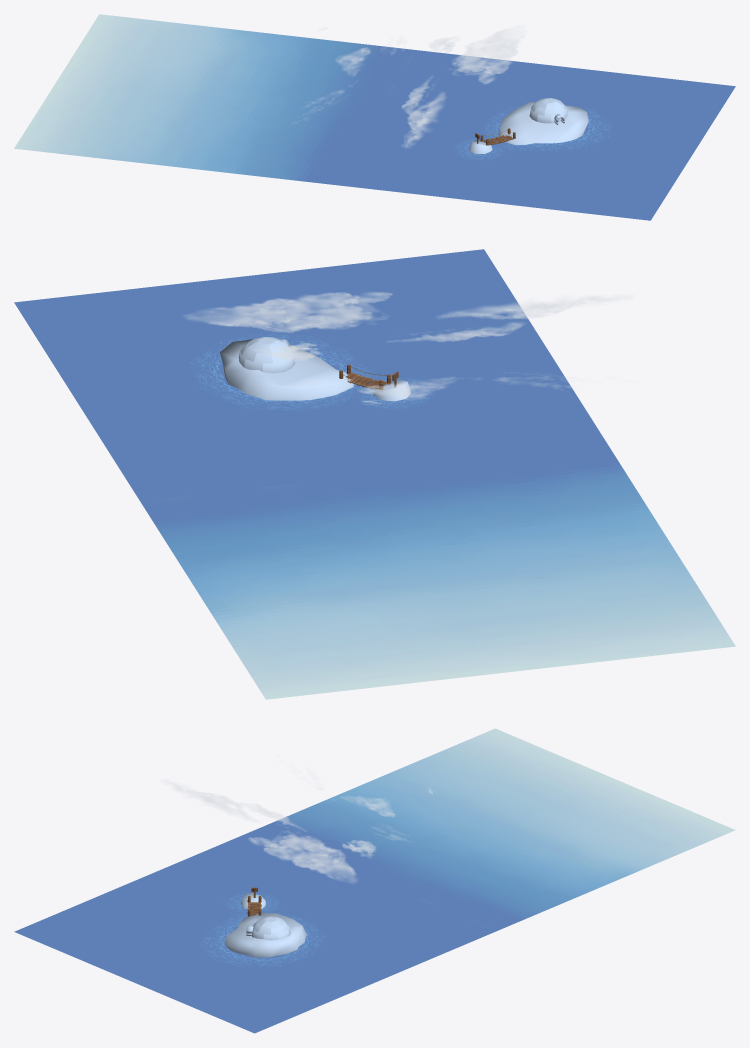
Rendered from Map.gltf.
The picture shows the model from 3 angles, top to bottom: view 1: azimuth 30°, elevation 25°; view 2: azimuth 150°, elevation 25°; view 3: azimuth 270°, elevation 25°; orthographic projection. The views are drawn at different scales.
Visible parts, largest first — view 1: Sky, Ocean, Mainland, CumulonimbusE, StratusE, Waves, CumulonimbusW, StratusW; view 2: Sky, Ocean, CumulonimbusE, Mainland, StratusE, Waves, CumulonimbusW, StratusW, Cumulonimbus; view 3: Sky, Ocean, CumulonimbusE, Mainland, Waves, StratusE, CumulonimbusW.
Boxes of the visible parts, x1=… form: Sky: x1=14, y1=14, x2=417, y2=184; Ocean: x1=332, y1=50, x2=735, y2=220; Mainland: x1=498, y1=102, x2=588, y2=144; CumulonimbusE: x1=452, y1=25, x2=525, y2=84; StratusE: x1=402, y1=92, x2=445, y2=147; Waves: x1=455, y1=107, x2=609, y2=159; CumulonimbusW: x1=336, y1=47, x2=370, y2=75; StratusW: x1=401, y1=76, x2=432, y2=114; Sky: x1=140, y1=448, x2=735, y2=699; Ocean: x1=14, y1=249, x2=609, y2=500; CumulonimbusE: x1=185, y1=292, x2=392, y2=332; Mainland: x1=220, y1=339, x2=353, y2=400; StratusE: x1=438, y1=294, x2=633, y2=319; Waves: x1=190, y1=332, x2=430, y2=411; CumulonimbusW: x1=359, y1=377, x2=454, y2=399; StratusW: x1=387, y1=322, x2=523, y2=341; Cumulonimbus: x1=255, y1=343, x2=320, y2=361; Sky: x1=255, y1=728, x2=735, y2=931; Ocean: x1=14, y1=830, x2=494, y2=1033; CumulonimbusE: x1=248, y1=831, x2=356, y2=882; Mainland: x1=224, y1=912, x2=306, y2=957; Waves: x1=200, y1=893, x2=324, y2=966; StratusE: x1=161, y1=779, x2=260, y2=822; CumulonimbusW: x1=340, y1=796, x2=395, y2=816.
Size of the model in its own units: 212 by 26.5 by 212.
Materials: 8 (4 with a texture image).
